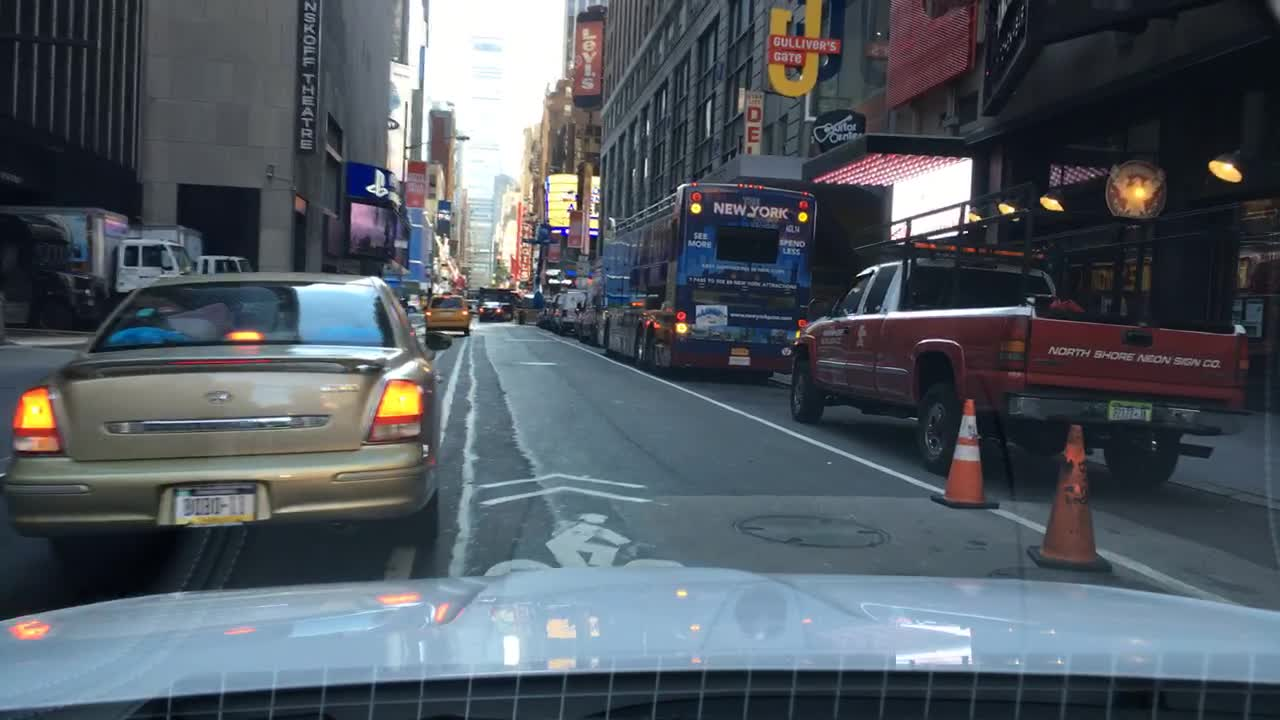bus: (593, 178, 819, 384)
car: (2, 272, 444, 577), (423, 292, 472, 338), (549, 289, 589, 332), (573, 293, 604, 341), (478, 299, 512, 321), (533, 299, 559, 326), (466, 295, 480, 312)
truck: (788, 236, 1257, 490), (0, 203, 196, 318), (0, 215, 108, 335), (128, 223, 254, 278)
